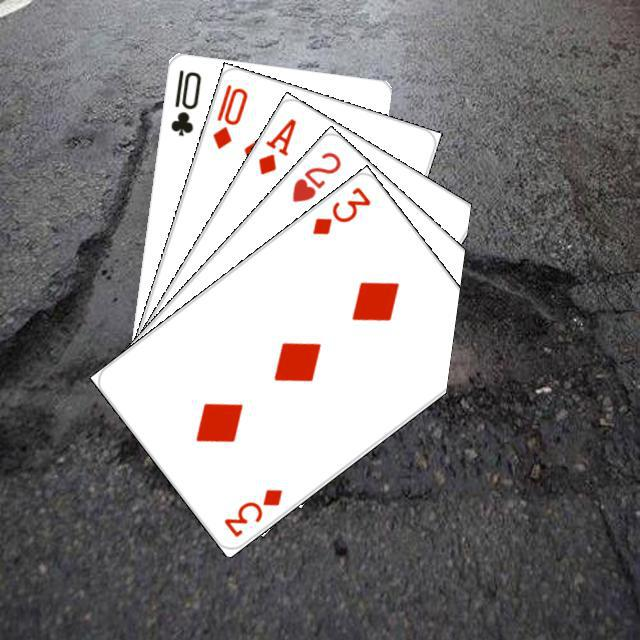10c: (165, 65, 203, 138)
10d: (207, 79, 250, 151)
2h: (286, 146, 343, 204)
3d: (218, 483, 284, 540), (307, 182, 373, 237)
Ad: (253, 113, 299, 177)
